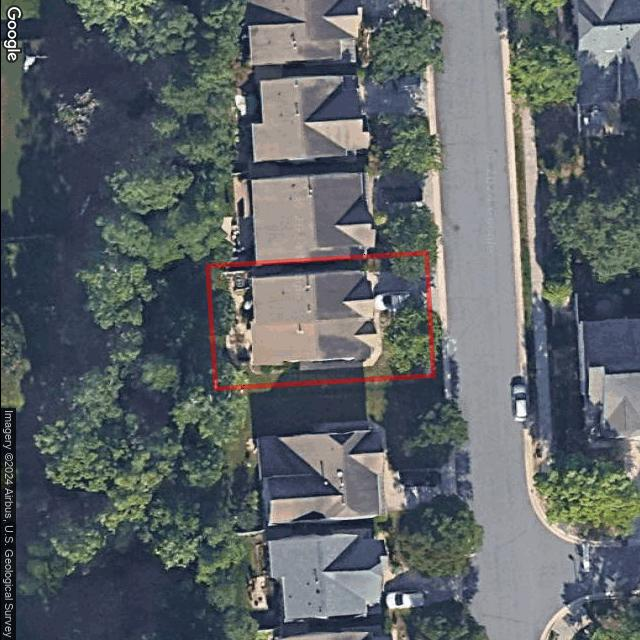Driveway: (367, 269, 430, 314)
Extra-Driveway: (427, 267, 441, 316)
Extra-Lawn: (429, 309, 442, 376), (427, 252, 437, 271)
House: (246, 265, 378, 368)
Lawn: (206, 253, 433, 389)
Other: (220, 268, 251, 365)
Sidewalk: (373, 313, 382, 341)
